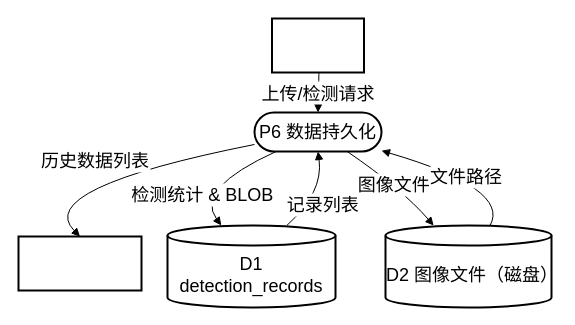
Image size: 575x325. Some labels were removed from this diagram. The shapes that lost their labels are listed below. From the top down, each one's centre as x and y in pixels, then its label:
At pixel 317 45: "用户".
At pixel 79 263: "Web前端".
